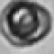correct: (0, 0, 52, 47)
